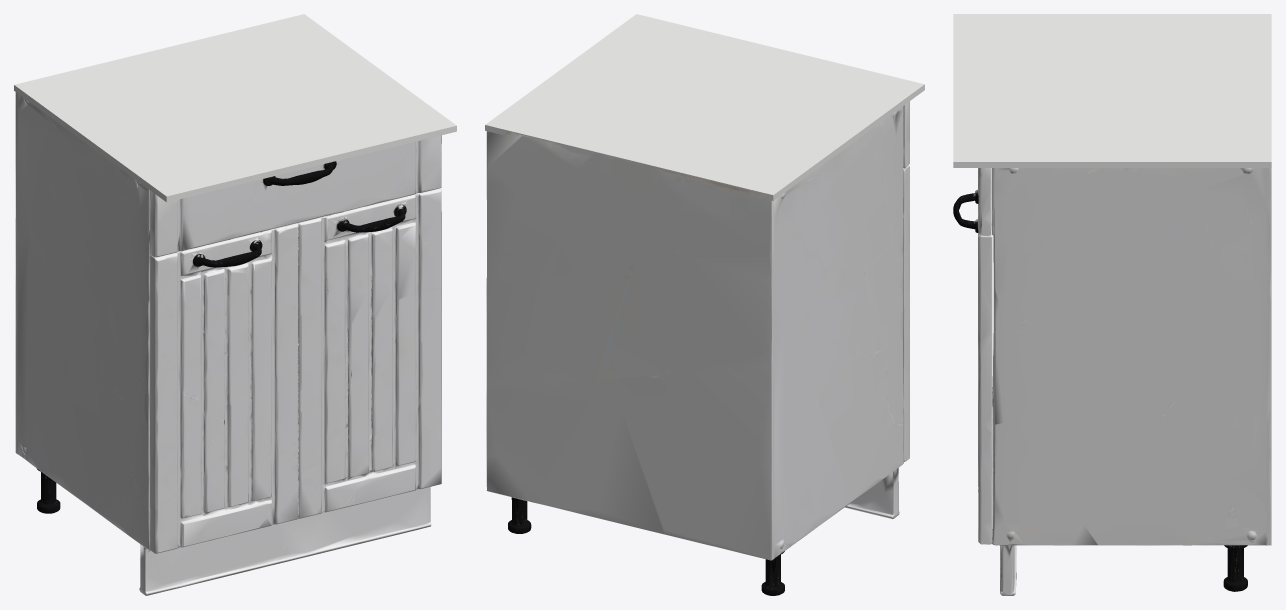
Rendered from unterschrank-01.glb.
3 renders of one model, left to right at view 1: azimuth 30°, elevation 25°; view 2: azimuth 150°, elevation 25°; view 3: azimuth 270°, elevation 25°, orthographic. The views are drawn at different scales.
Parts seen in each view (by area): view 1: object 1, Deckel; view 2: object 1, Deckel; view 3: object 1, Deckel.
Part boxes in pixels (<box>): object 1: <box>15,92,441,595</box>; Deckel: <box>14,14,456,202</box>; object 1: <box>486,101,909,595</box>; Deckel: <box>485,14,924,200</box>; object 1: <box>953,168,1271,595</box>; Deckel: <box>953,14,1271,167</box>.
Size of the model in its own units: 1.39 by 1.91 by 1.26.
2 materials, 1 textured.
